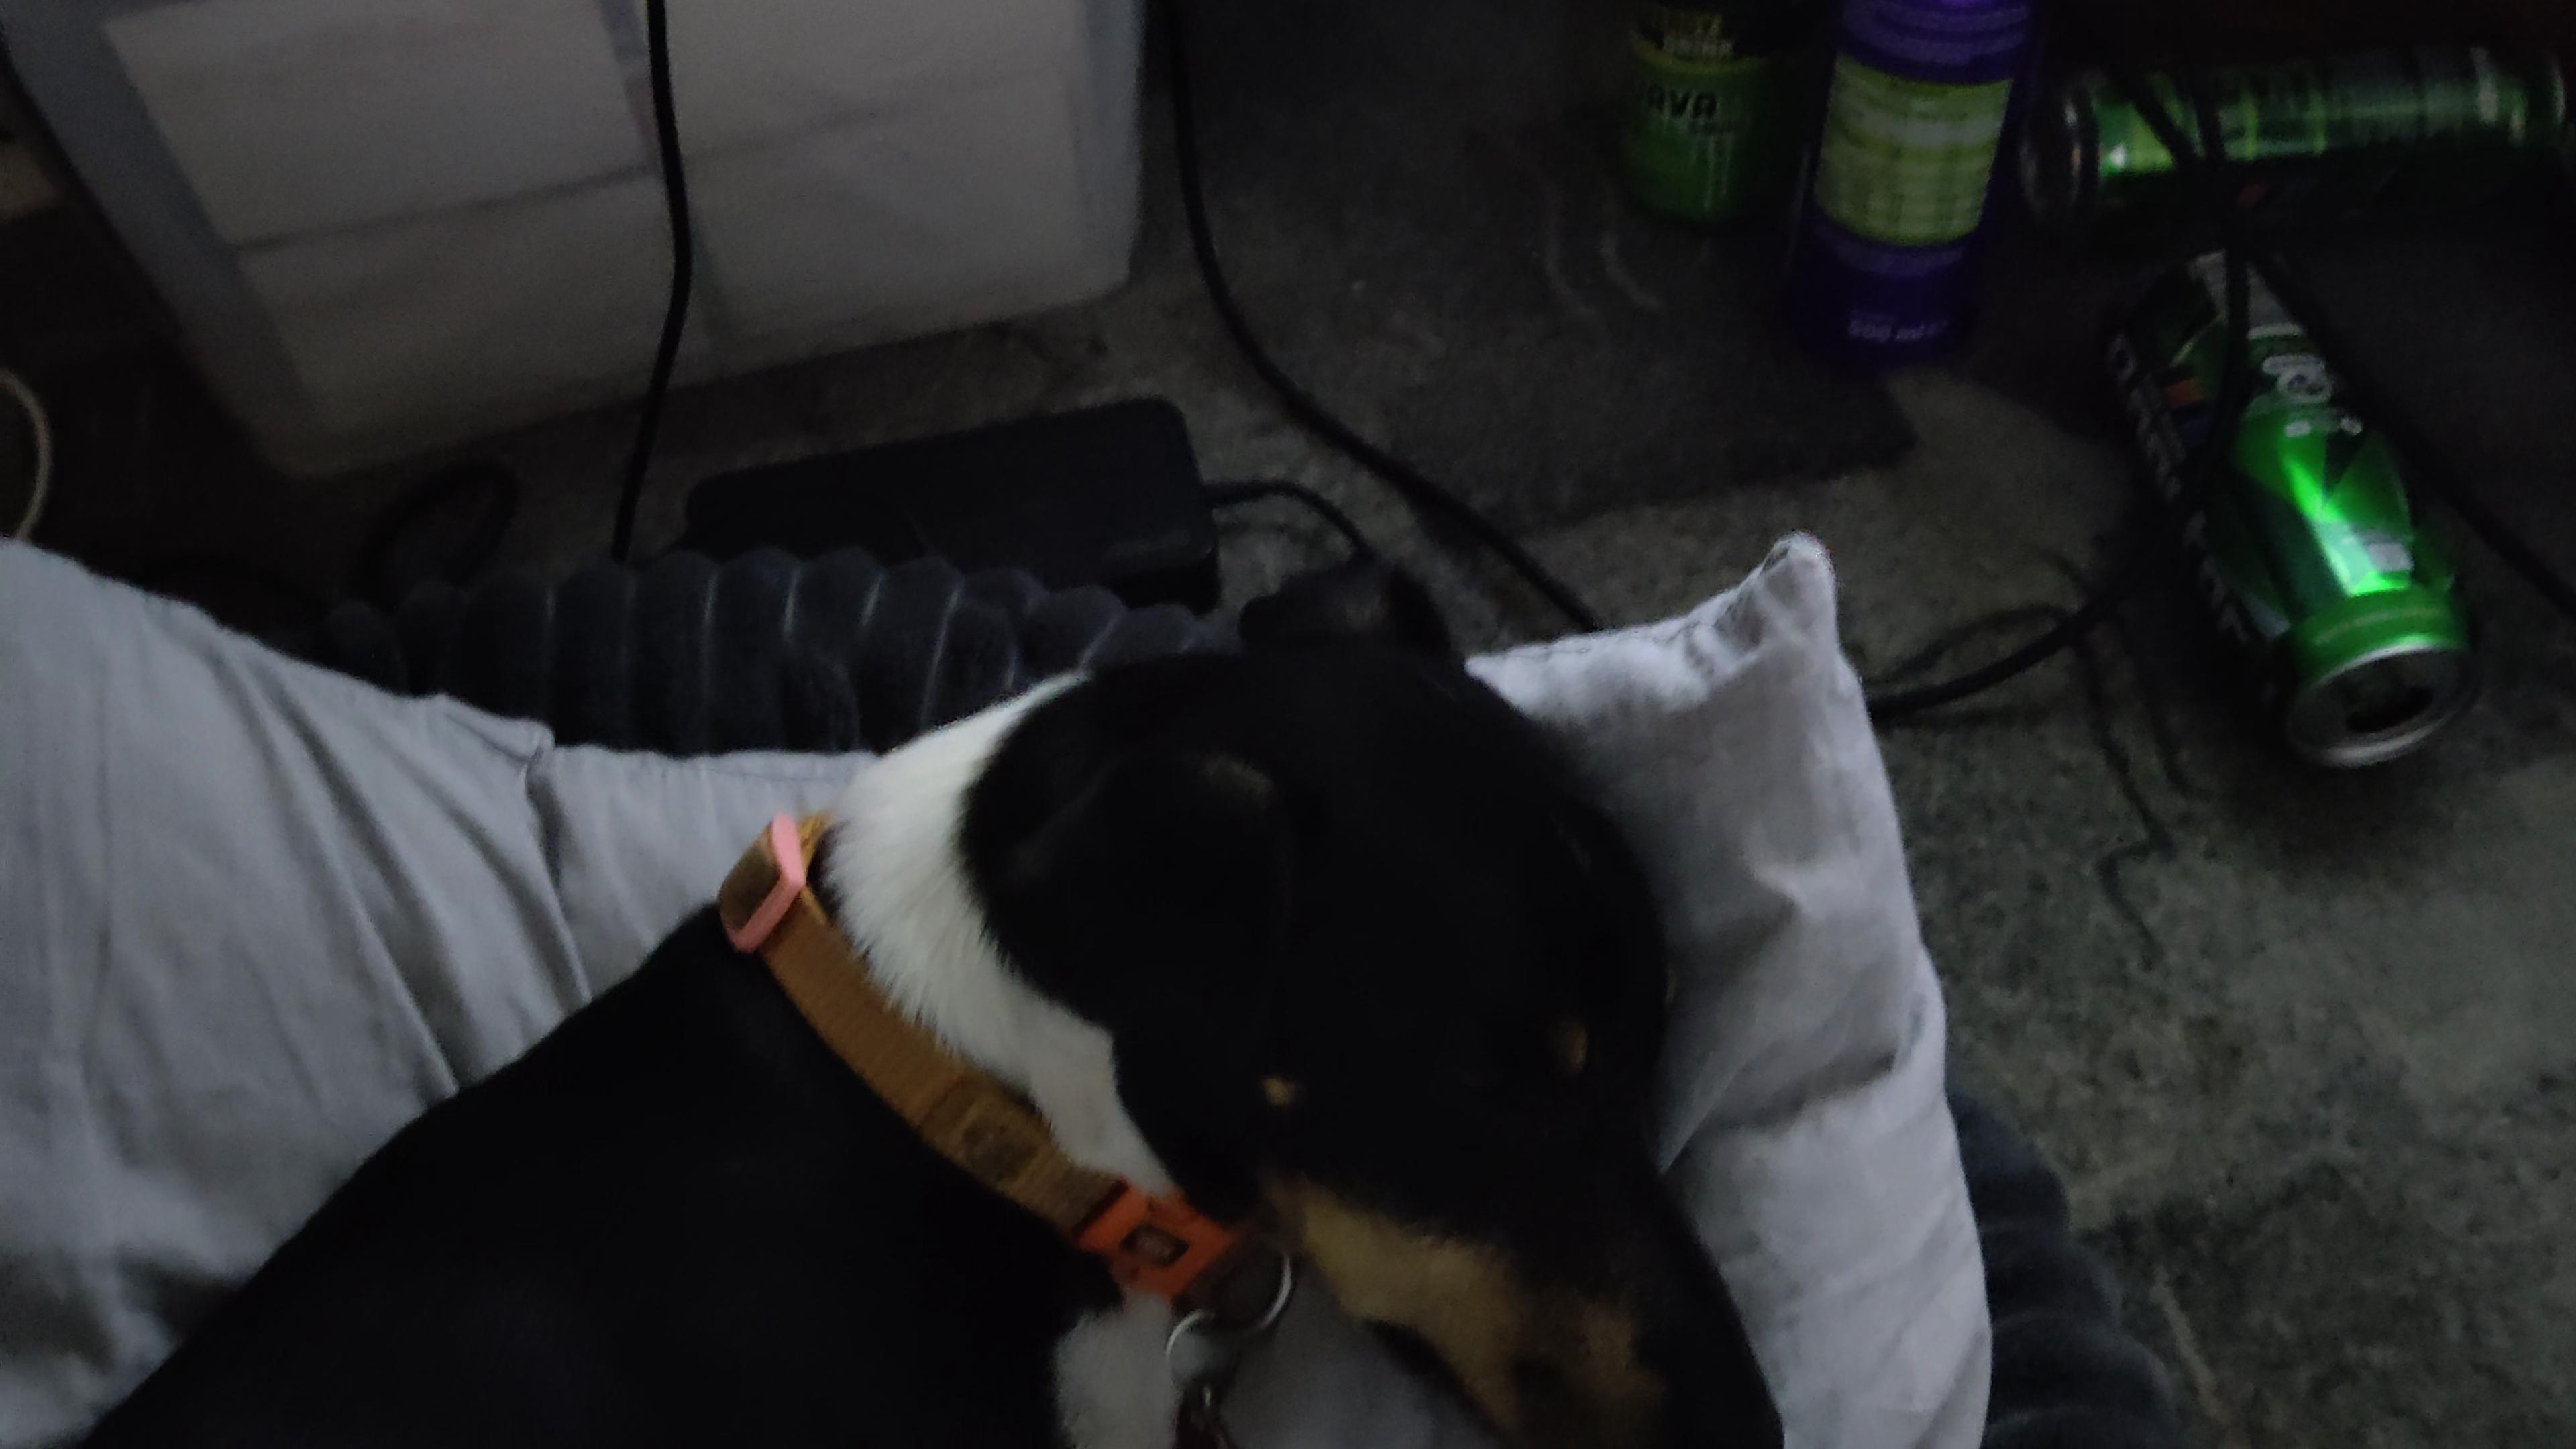Dog: (74, 545, 1792, 1449)
